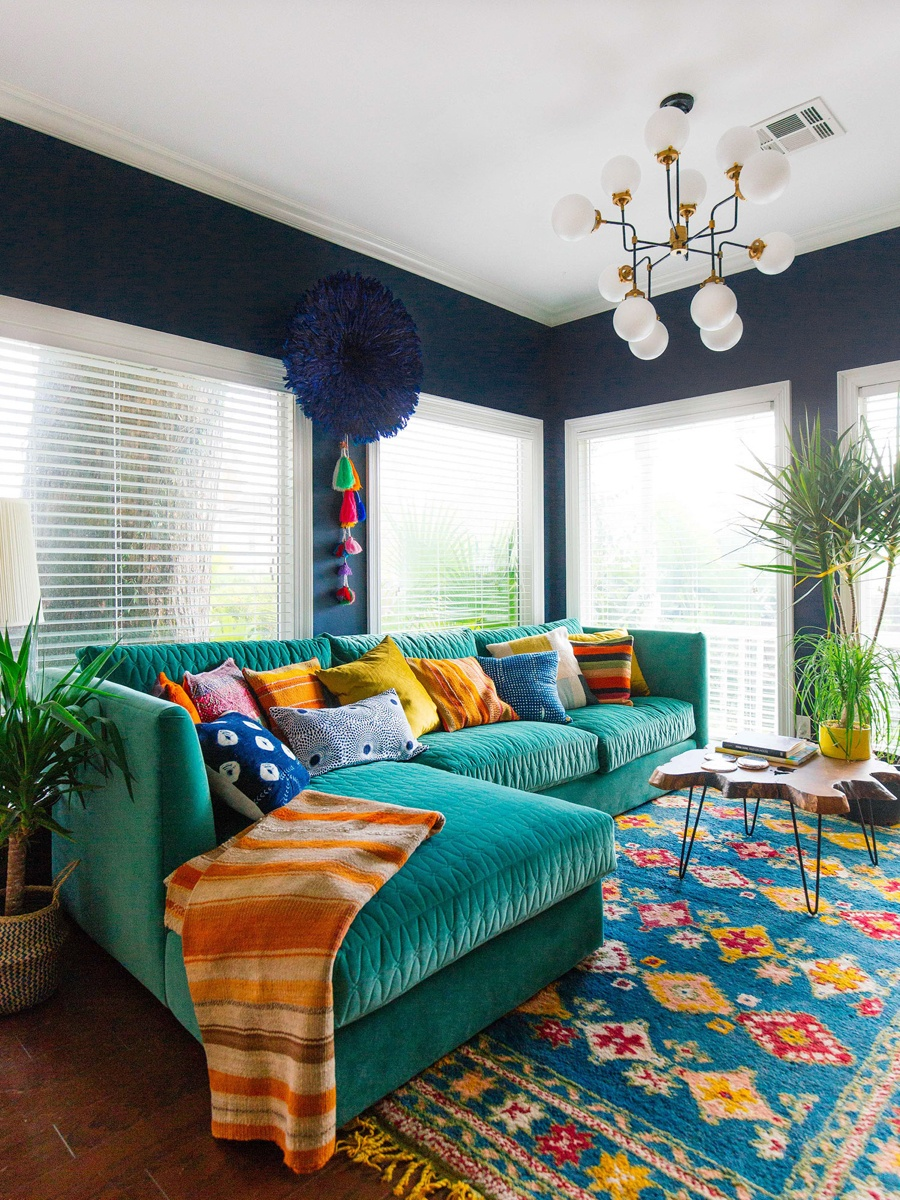hijau: (65, 620, 708, 1000)
kuning: (819, 720, 876, 759)
putih: (1, 498, 45, 629)
